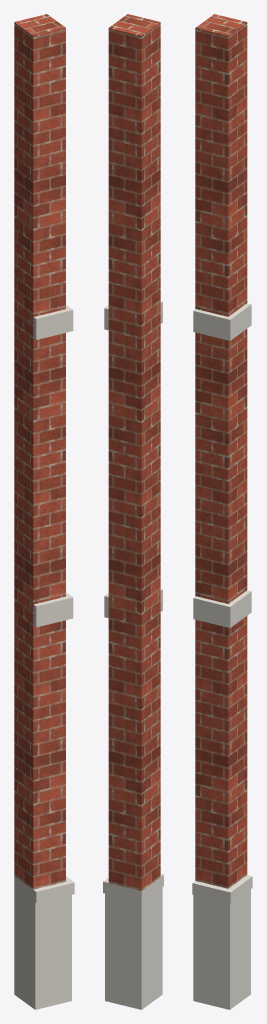
The model's file is corner_a.glb.
3 renders of one model, left to right at view 1: azimuth 30°, elevation 25°; view 2: azimuth 150°, elevation 25°; view 3: azimuth 330°, elevation 25°, orthographic.
Parts seen in each view (by area): view 1: corner_a_brick, corner_a_lime; view 2: corner_a_brick, corner_a_lime; view 3: corner_a_brick, corner_a_lime.
Part boxes in pixels (x1,y1,x2,y2): corner_a_brick: (14, 14, 65, 889); corner_a_lime: (14, 305, 74, 1009); corner_a_brick: (108, 14, 160, 890); corner_a_lime: (103, 301, 163, 1009); corner_a_brick: (195, 14, 247, 888); corner_a_lime: (192, 303, 252, 1009).
Size of the model in its own units: 0.42 by 10.15 by 0.42.
Materials: 2 (1 with a texture image).
